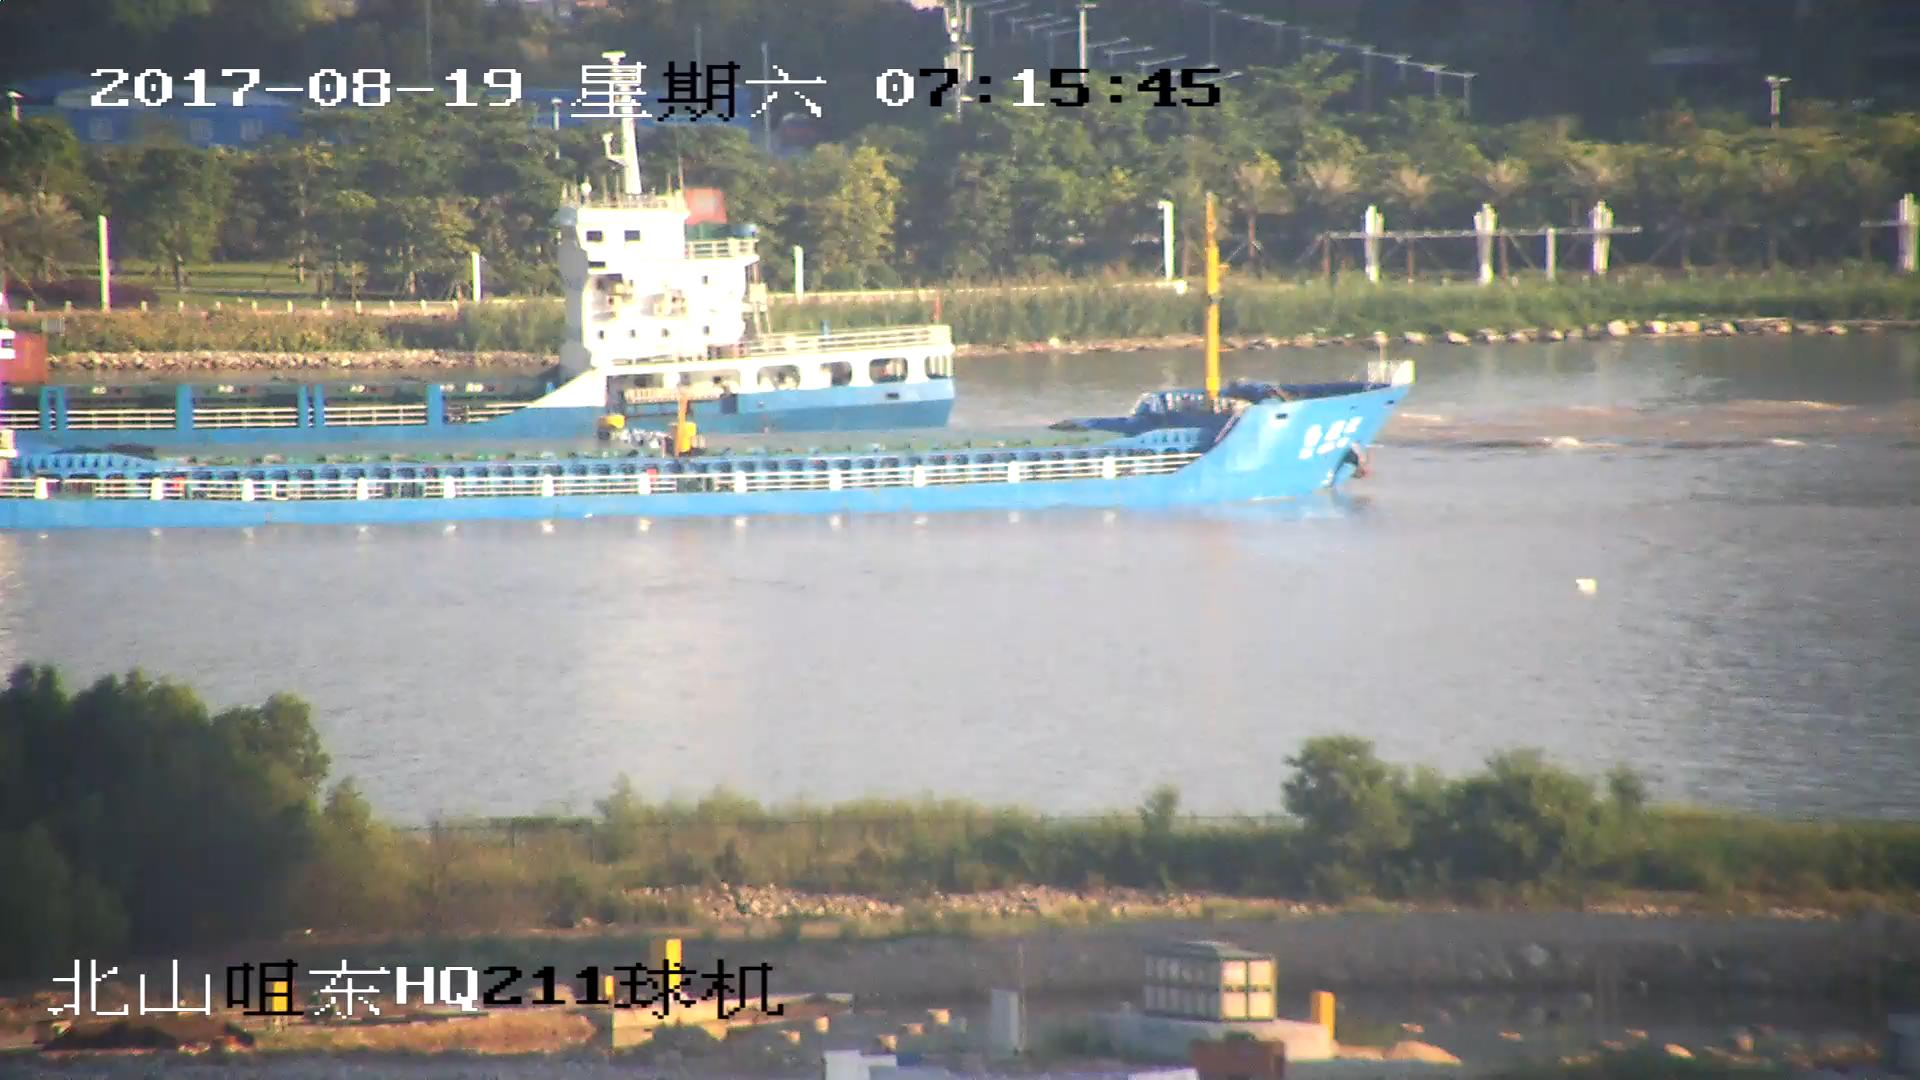general cargo ship: (1, 194, 1420, 524), (1, 111, 961, 432)
